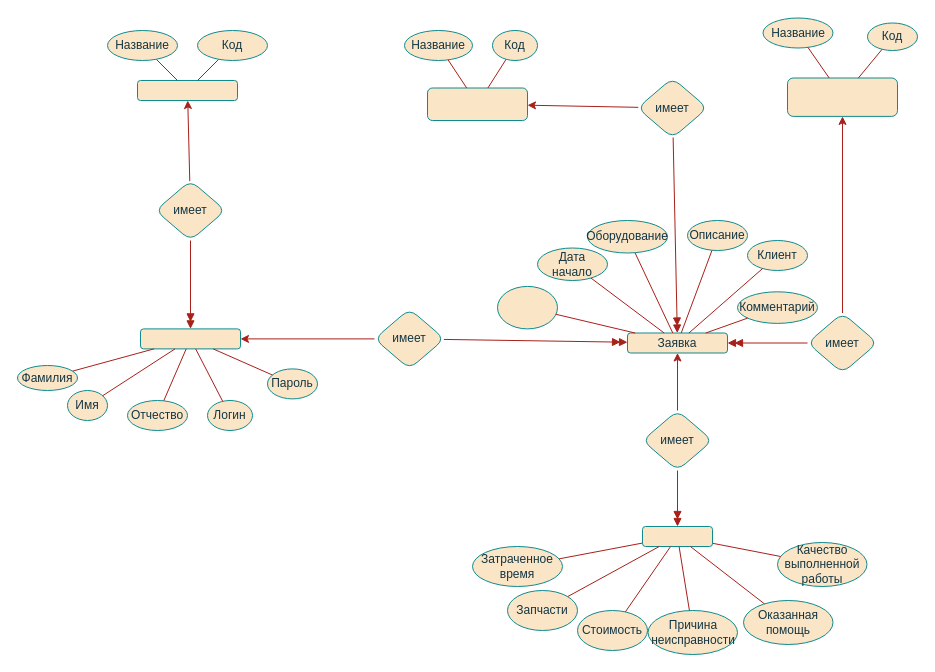
Some shapes in this 935 by 672 pixel diagram are drawn without their labels. Here are the shapes that lost their labels. From the top down, the centre of each, then its label:
the point at 187,90: Роль
the point at 477,103: Тип неисправности
the point at 842,96: Статус заявки
the point at 527,307: Номер заявки
the point at 190,338: Пользователь
the point at 677,536: Отчёт
